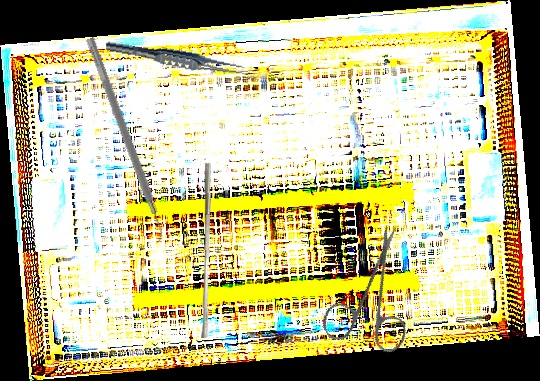Iris Scissors: (294, 222, 449, 376)
Pusher: (197, 163, 215, 338)
Spatula Surgical: (77, 36, 171, 244)
Tissue Forceps: (104, 38, 248, 79)
